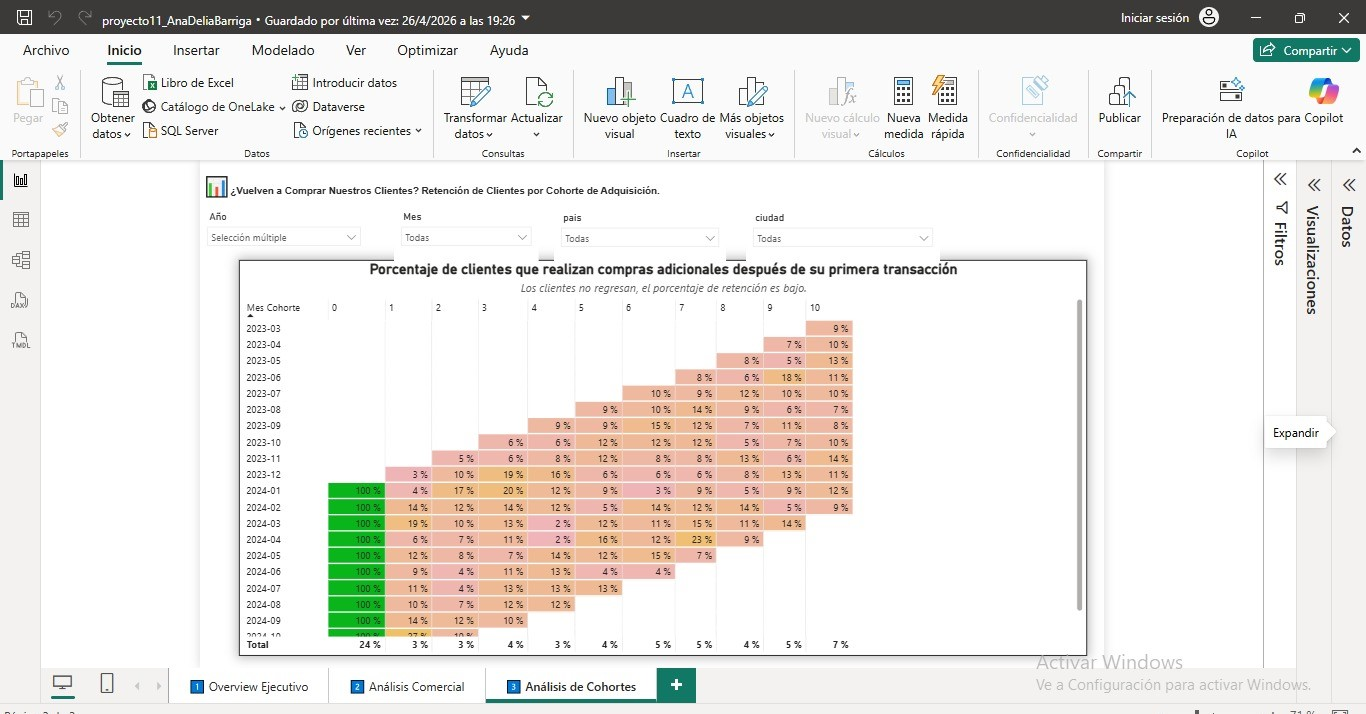

Layout of this report page (visuals, bound fields, positions):
{"tool":"powerbi","page":{"name":"3️⃣ Análisis de Cohortes","canvas":[1280,720],"ordinal":2},"visuals":[{"type":"slicer","fields":{"Values":["dim_fecha.Año"]},"box":[0,66.8,237.8,74.9],"z":0},{"type":"textbox","box":[0,13,938.9,56.2],"z":1000},{"type":"pivotTable","title":"Porcentaje de clientes que realizan compras adicionales después de su primera transacción","fields":{"Rows":["hecho_ventas_propiedades.Mes Cohorte"],"Columns":["hecho_ventas_propiedades.Mes Indice"],"Values":["hecho_ventas_propiedades.% Retencion"]},"box":[55.3,141.7,1201.9,561.3],"z":2000},{"type":"slicer","fields":{"Values":["dim_fecha.Mes"]},"box":[275.2,66.8,205.2,78.2],"z":3000},{"type":"slicer","fields":{"Values":["dim_clientes.pais"]},"box":[501.6,68.4,244.3,76.5],"z":4000},{"type":"slicer","fields":{"Values":["dim_clientes.ciudad"]},"box":[773.5,68.4,275.2,76.5],"z":5000}]}

Visuals, with their boxes on the page's 1280x720 design canvas (x1, y1, x2, y2). These are canvas units, not pixel positions in the 1366x714 screenshot, which may show the page scaled, cropped or inside an application window:
slicer - dim_fecha.Año: (0, 67, 238, 142)
textbox: (0, 13, 939, 69)
"Porcentaje de clientes que realizan compras adicionales después de su primera transacción" pivotTable: (55, 142, 1257, 703)
slicer - dim_fecha.Mes: (275, 67, 480, 145)
slicer - dim_clientes.pais: (502, 68, 746, 145)
slicer - dim_clientes.ciudad: (774, 68, 1049, 145)
